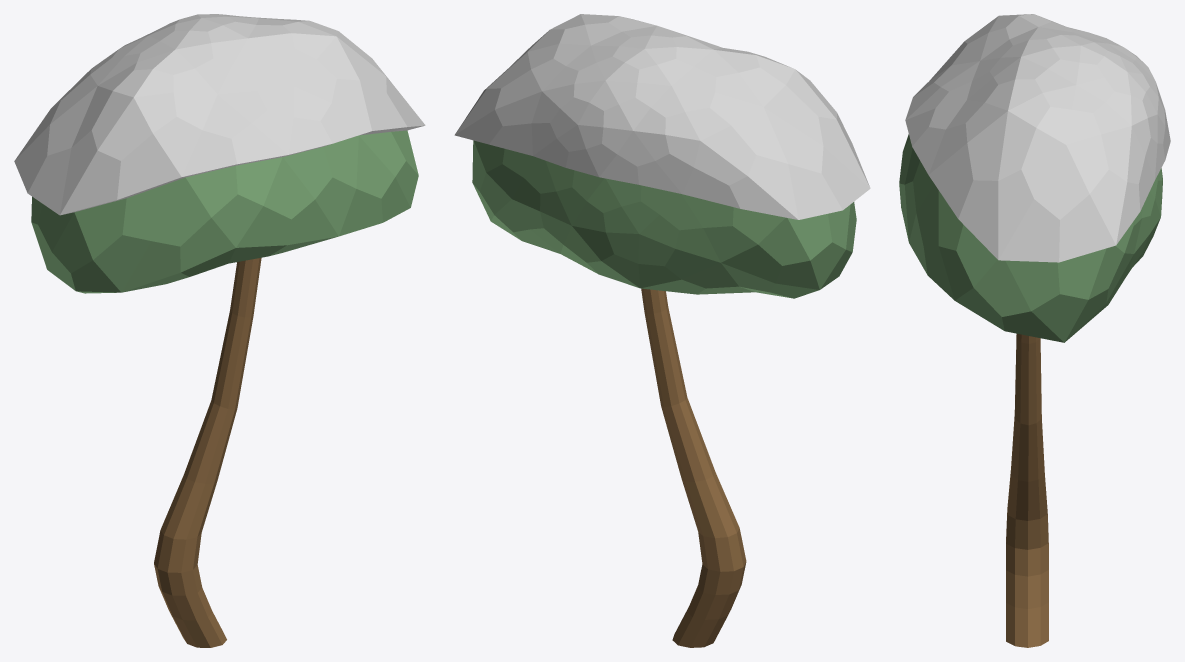
Rendered from Tree1.fbx.
3 renders of one model, left to right at view 1: azimuth 30°, elevation 25°; view 2: azimuth 150°, elevation 25°; view 3: azimuth 270°, elevation 25°, orthographic.
Parts seen in each view (by area): view 1: Tree1; view 2: Tree1; view 3: Tree1.
Part boxes in pixels (x1,y1,x2,y2): Tree1: (14, 14, 425, 647); Tree1: (454, 14, 870, 647); Tree1: (899, 14, 1170, 647).
Size of the model in its own units: 441 by 682 by 276.
